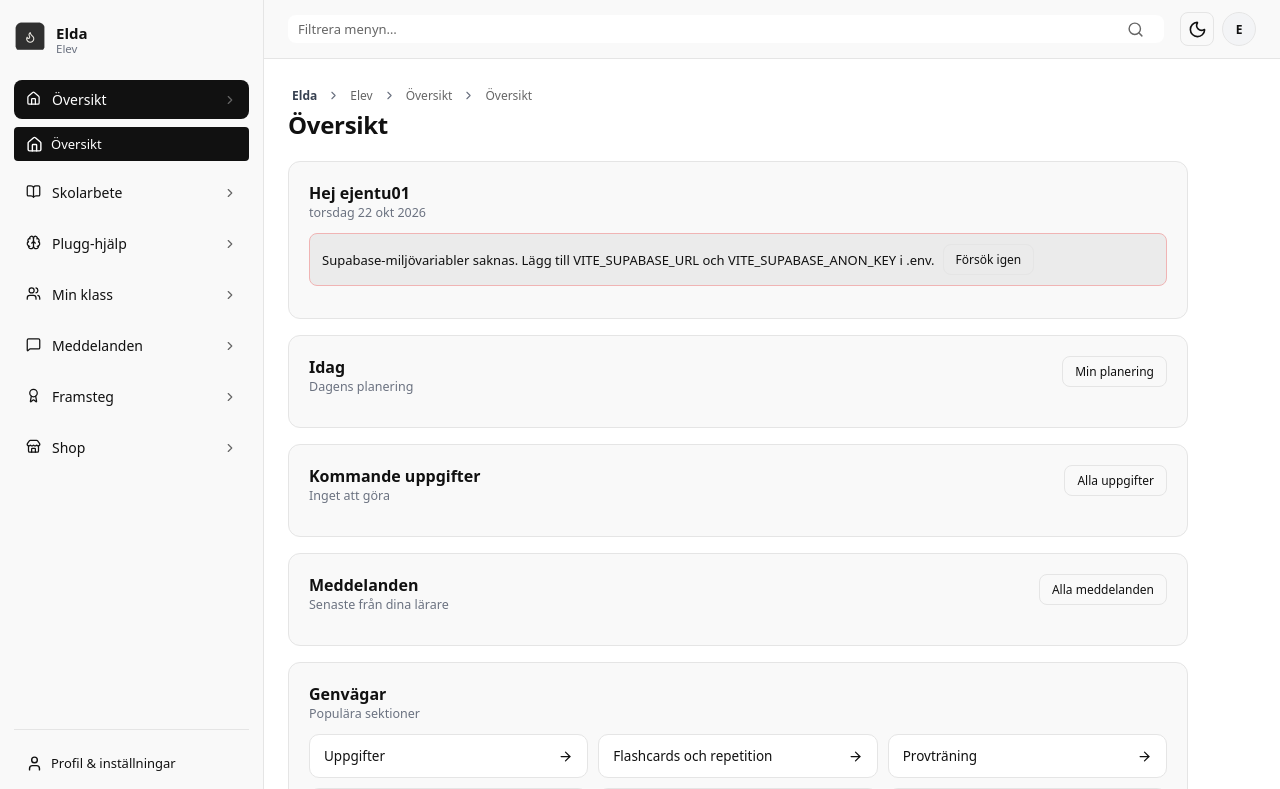
Test: skal, meny och tema › filtrerar menyn medan man skriver och rensar filtret vid navigering
Type "flashcards" into the search field labelled "Filtrera menyn" at (706, 29), box [296,19,1115,39]
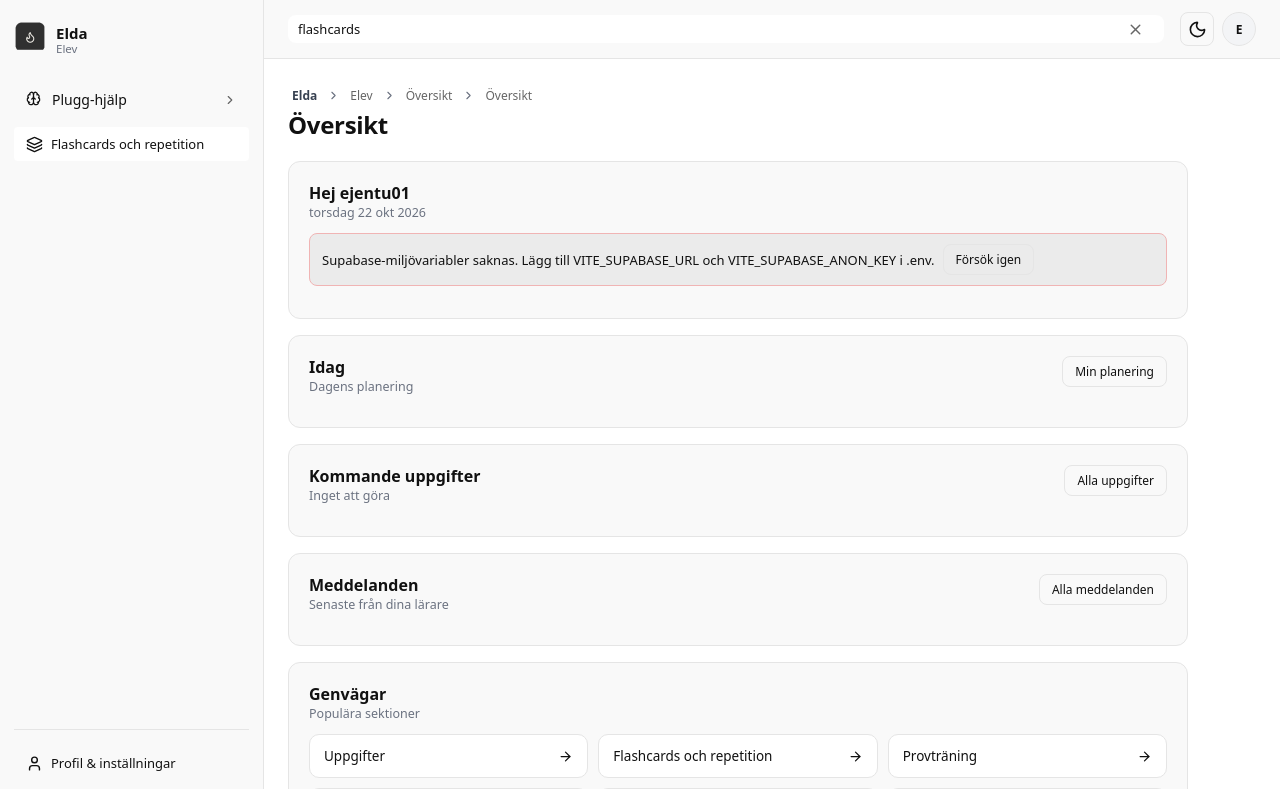
Expected: the 1st text "Flashcards och repetition" is shown, [51,135,204,153]
Expected: the button "Skolarbete" is gone
Note: En träff går att öppna direkt, och då visas menyn ofiltrerad igen.
Click the 1st button "Flashcards och repetition" at (132, 144), box [14,127,249,161]
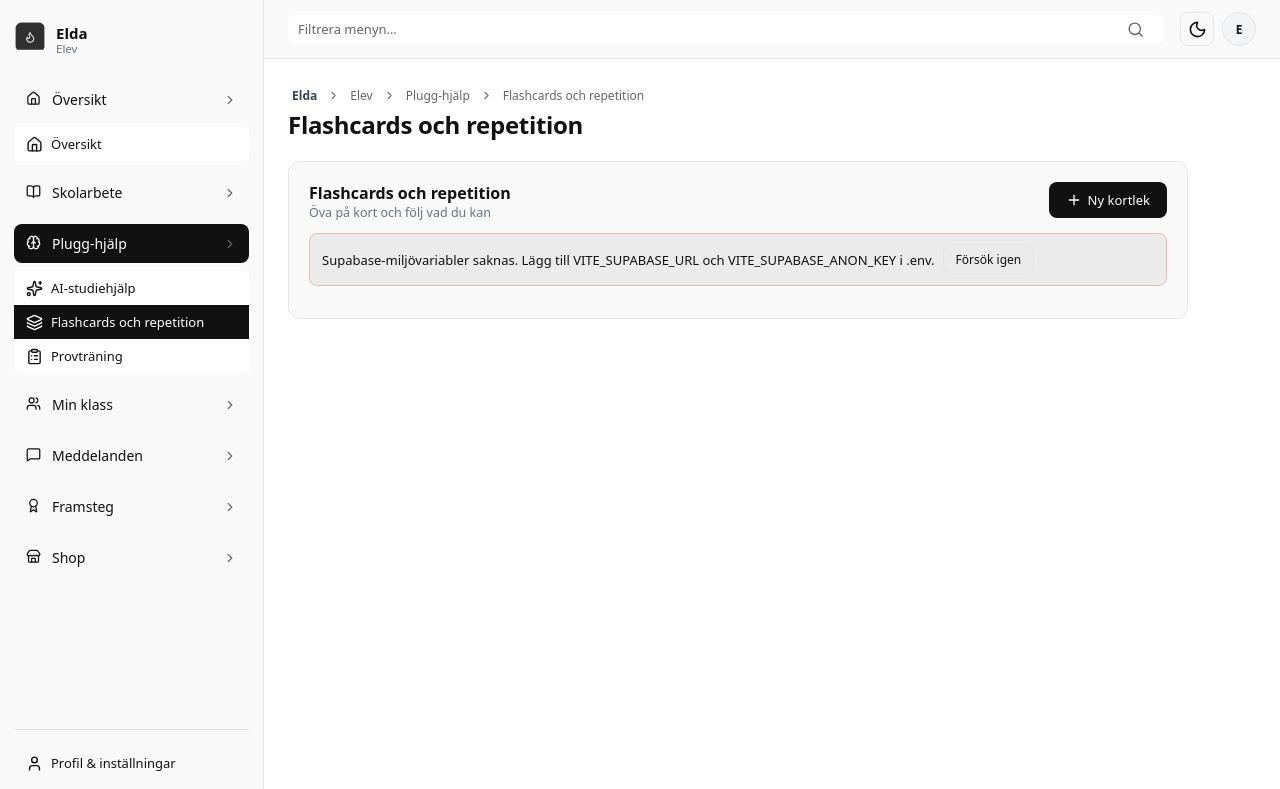
Expected: the element with test id "page-elev-flashcards" is shown, [288,161,1188,319]
Expected: the text "Skolarbete" is shown, [52,183,122,202]
Note: Utan träff visas en tydlig förklaring i stället för en tom meny.
Type "finns-inte" into the search field labelled "Filtrera menyn" at (706, 29), box [296,19,1115,39]
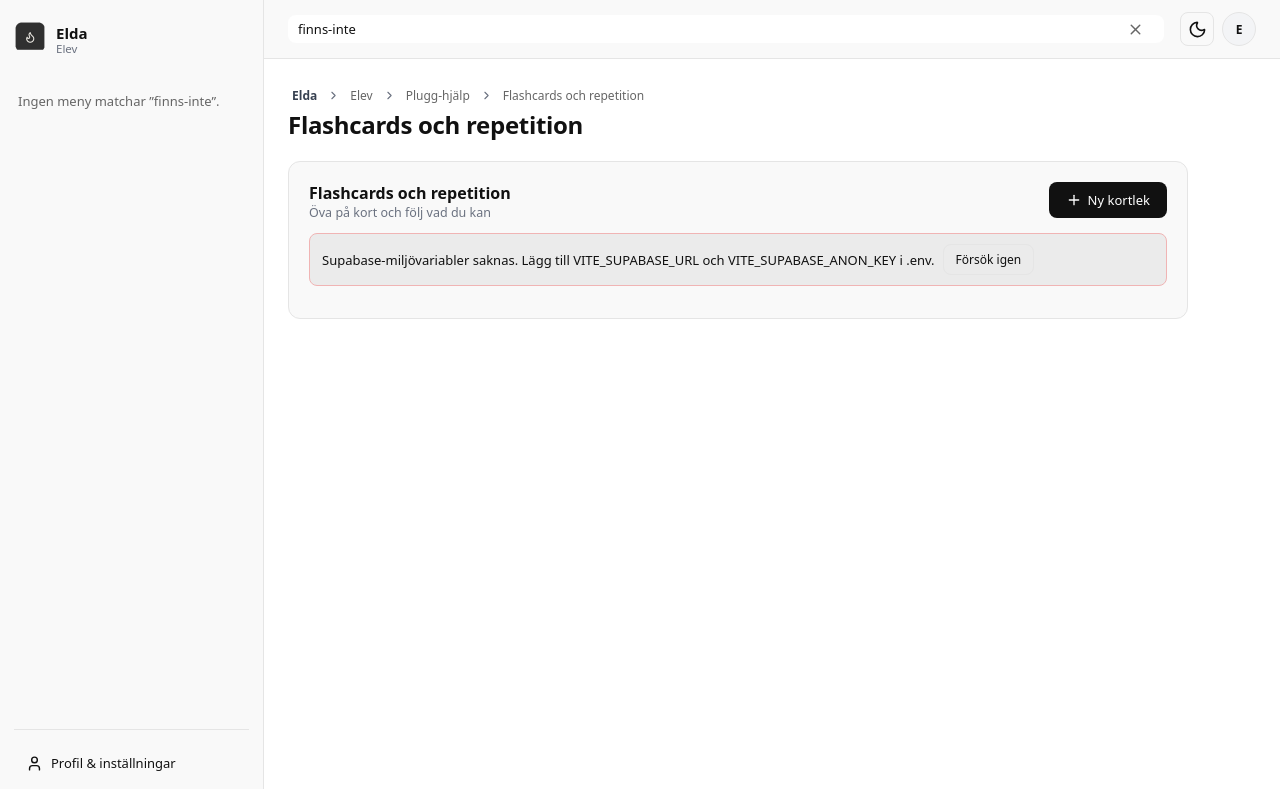
Expected: the text "Ingen meny matchar ”finns-inte”." is shown, [18,92,245,112]
Click the button named "Rensa menyfiltret" at (1136, 29), box [1115,19,1156,39]
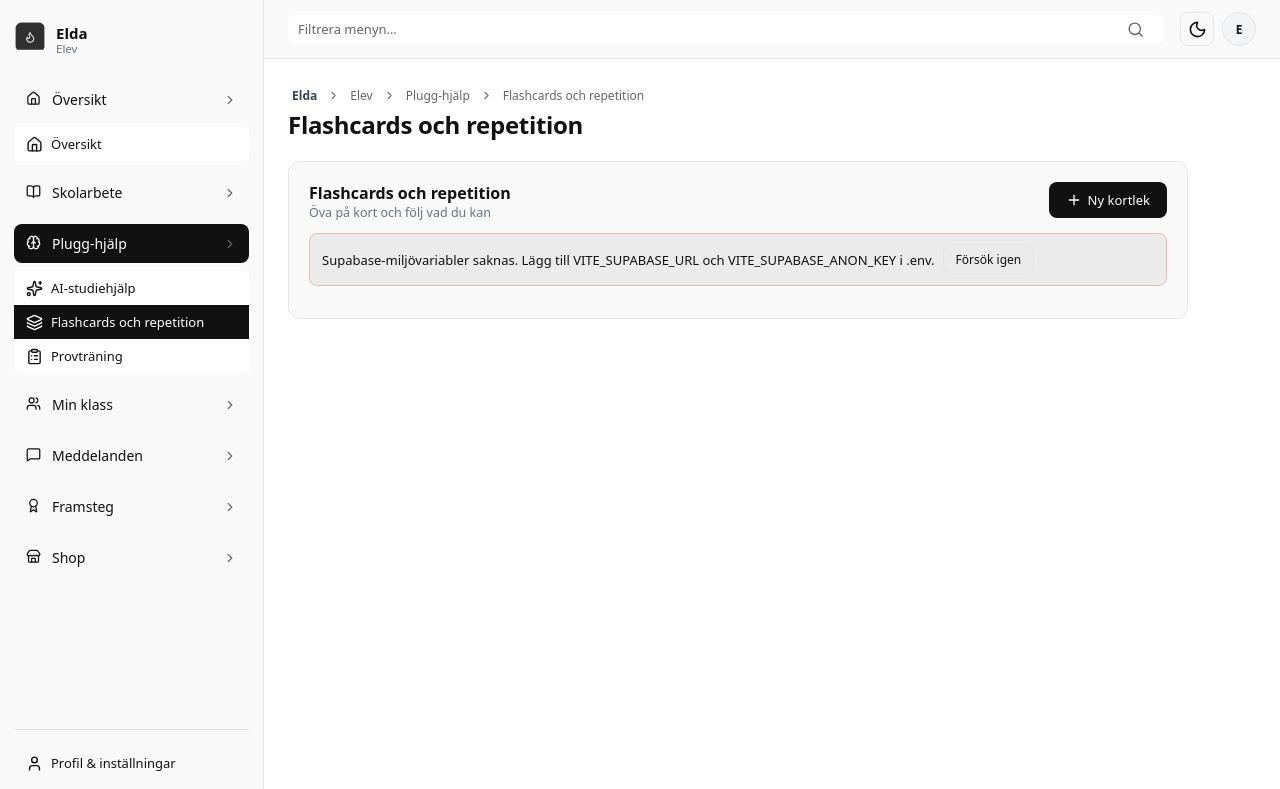
Expected: the text "Skolarbete" is shown, [52,183,122,202]
